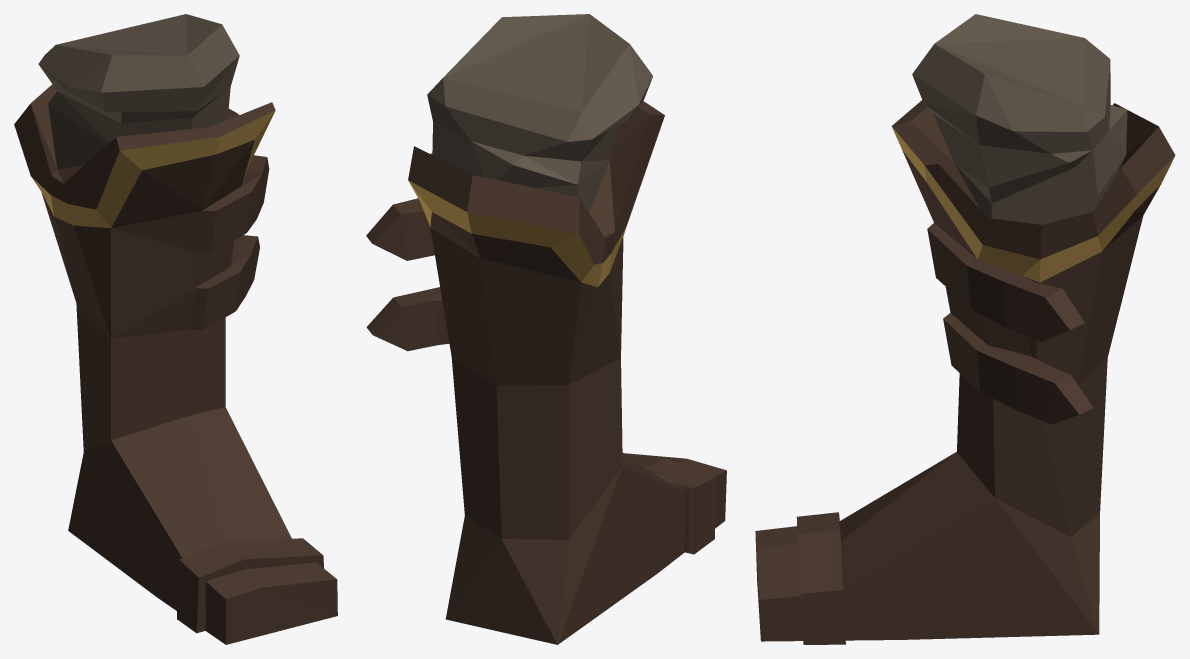
File: Chr_LegRight_Male_04_Static.fbx
3 views of the same model, side by side, from view 1: azimuth 30°, elevation 25°; view 2: azimuth 150°, elevation 25°; view 3: azimuth 270°, elevation 25° (orthographic). The views are drawn at different scales.
Visible parts, largest first — view 1: Chr_LegRight_Male_04_Static; view 2: Chr_LegRight_Male_04_Static; view 3: Chr_LegRight_Male_04_Static.
Boxes of the visible parts, x1,y1,x2,y2 form: Chr_LegRight_Male_04_Static: (14,14,337,644); Chr_LegRight_Male_04_Static: (366,14,726,644); Chr_LegRight_Male_04_Static: (755,14,1175,644).
Size of the model in its own units: 0.1843 by 0.4041 by 0.2743.
